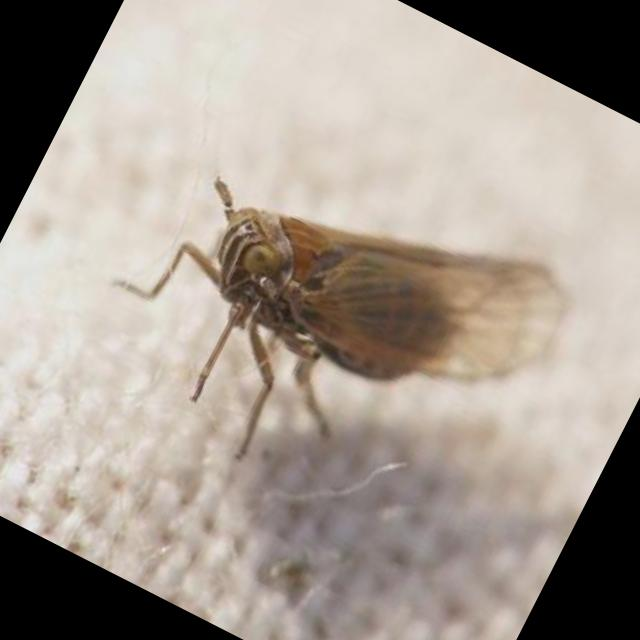brown-planthopper: (147, 181, 570, 401)
